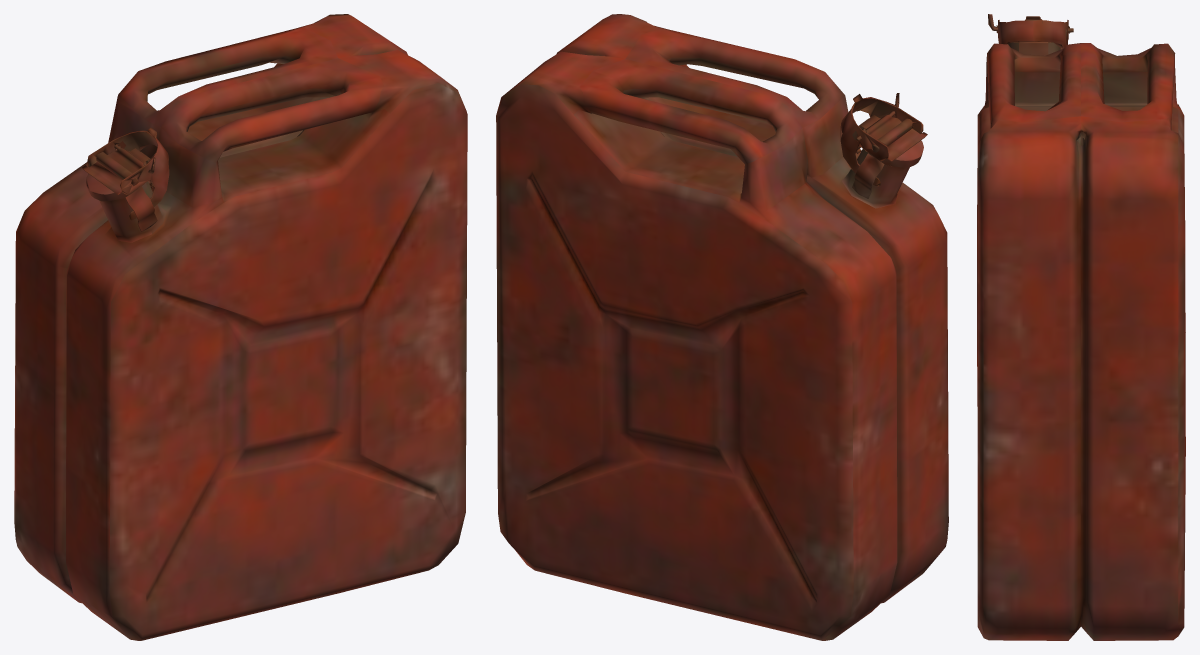
The model's file is metal_jerrycan.slim.glb.
3 views of the same model, side by side, from view 1: azimuth 30°, elevation 25°; view 2: azimuth 150°, elevation 25°; view 3: azimuth 270°, elevation 25° (orthographic). The views are drawn at different scales.
Size of the model in its own units: 0.3503 by 0.4546 by 0.1711.
1 material, 1 textured.
